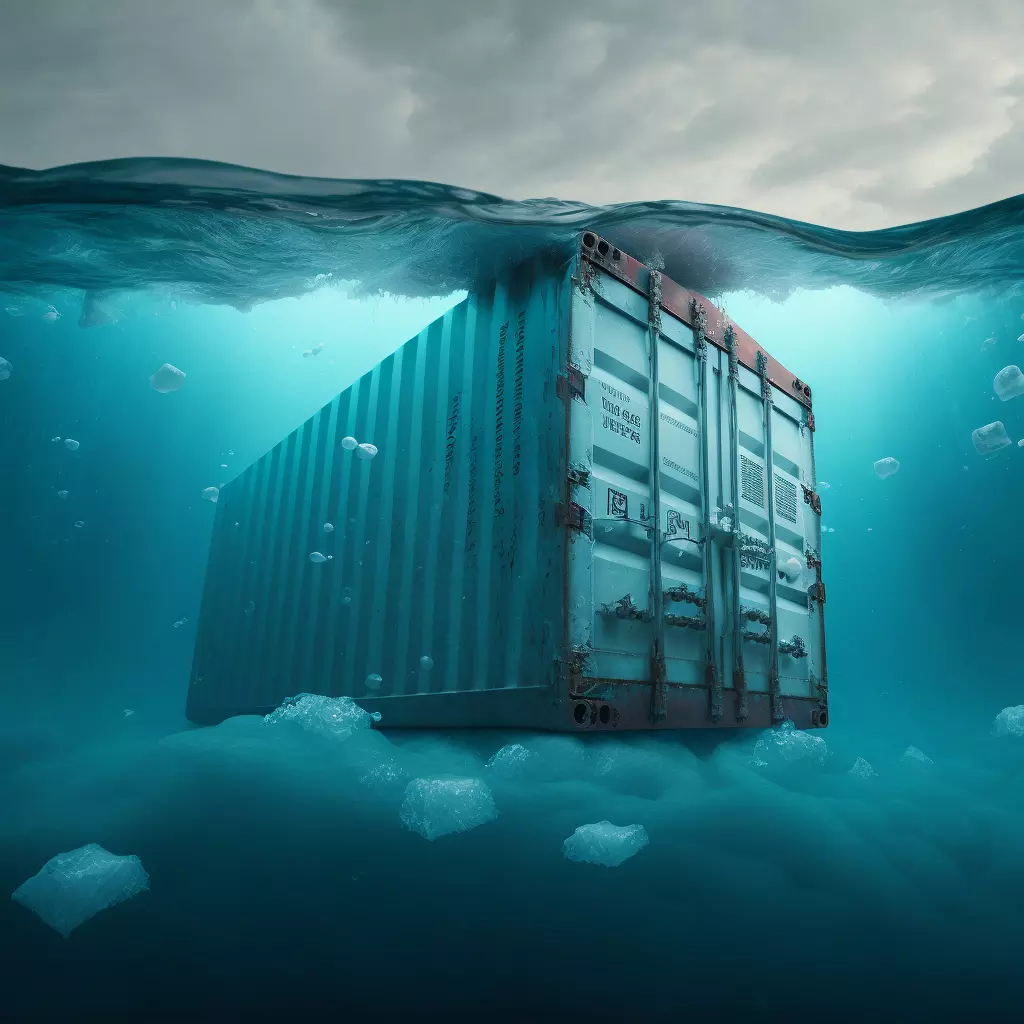Container: (181, 230, 830, 747)
